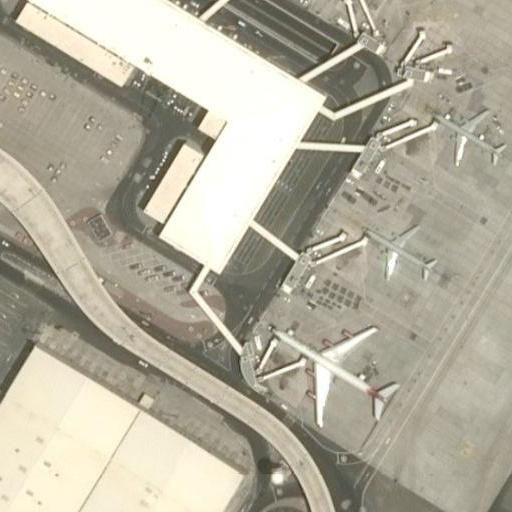Aircraft: (270, 317, 398, 421), (361, 216, 442, 280), (433, 101, 508, 166)
